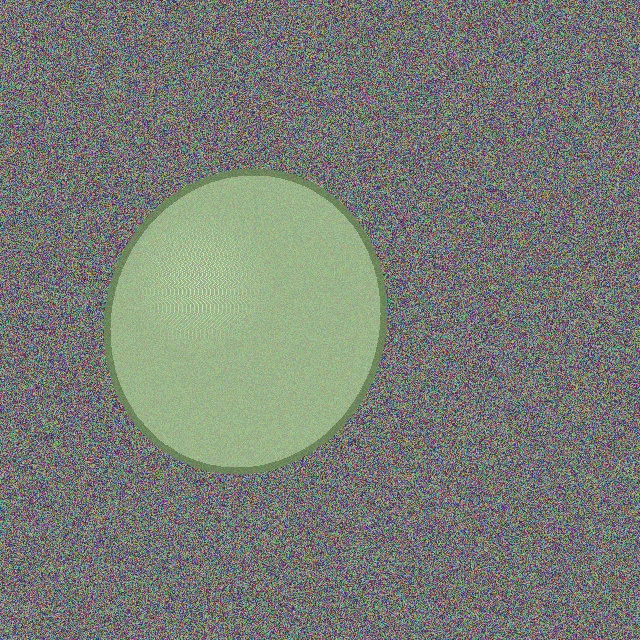lens: (107, 172, 383, 470)
